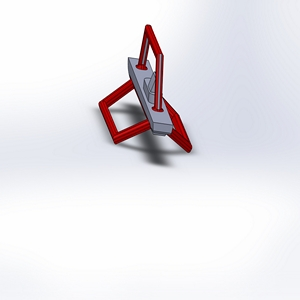submarine: (84, 14, 232, 204)
